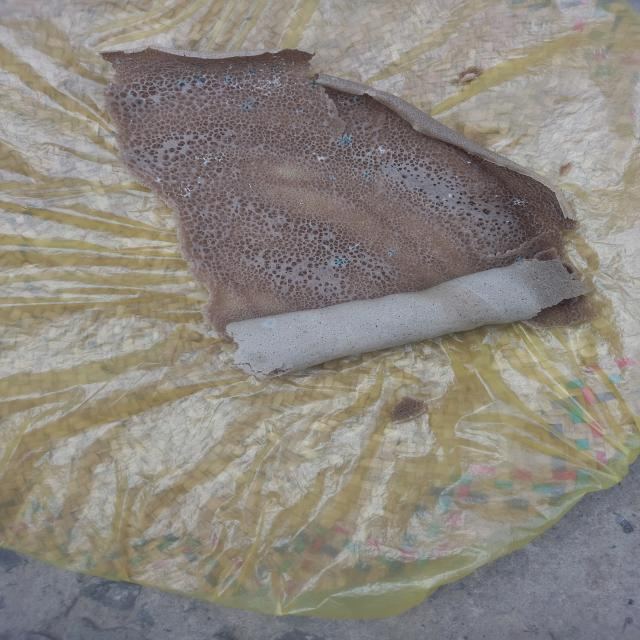injera_mold: (256, 75, 288, 98), (170, 177, 202, 200), (187, 152, 225, 167), (366, 144, 393, 157), (335, 132, 354, 148), (507, 198, 531, 208), (304, 80, 324, 89), (332, 257, 349, 267), (240, 100, 253, 110), (224, 96, 236, 106), (222, 75, 235, 84), (175, 80, 187, 88), (192, 74, 204, 82), (386, 248, 397, 256), (349, 242, 360, 250), (362, 172, 372, 179), (135, 99, 144, 106), (266, 319, 275, 326), (248, 70, 258, 76), (269, 68, 279, 73), (317, 156, 325, 162), (155, 177, 163, 183), (298, 199, 304, 205), (296, 109, 304, 113), (128, 91, 134, 96), (329, 176, 336, 180), (466, 160, 472, 164), (448, 194, 454, 198), (248, 183, 252, 188), (506, 220, 511, 223), (313, 153, 315, 154)
